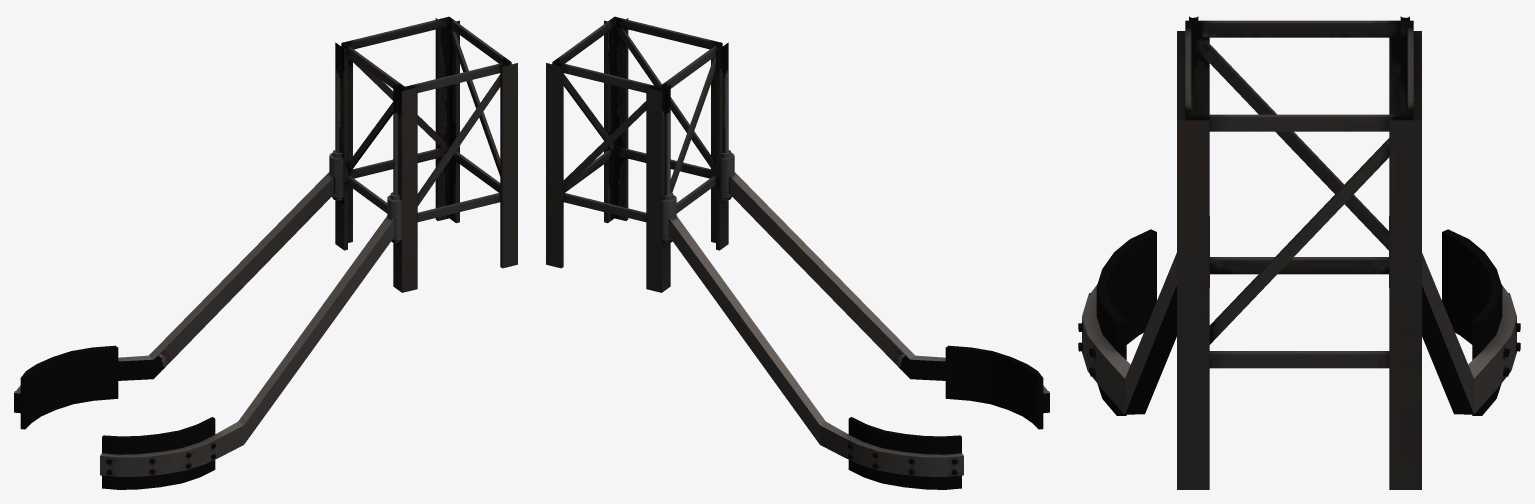
3 views of the same model, side by side, from view 1: azimuth 30°, elevation 25°; view 2: azimuth 150°, elevation 25°; view 3: azimuth 270°, elevation 25° (orthographic). The views are drawn at different scales.
Visible parts, largest first — view 1: body0_model0_lod0_mesh0; view 2: body0_model0_lod0_mesh0; view 3: body0_model0_lod0_mesh0.
Part boxes in pixels (x1,y1,x2,y2): body0_model0_lod0_mesh0: (14,16,517,489); body0_model0_lod0_mesh0: (546,16,1049,489); body0_model0_lod0_mesh0: (1078,16,1520,489).
Bounding box in the file's own units: 443 × 314 × 217.
Materials: 1 (1 with a texture image).
